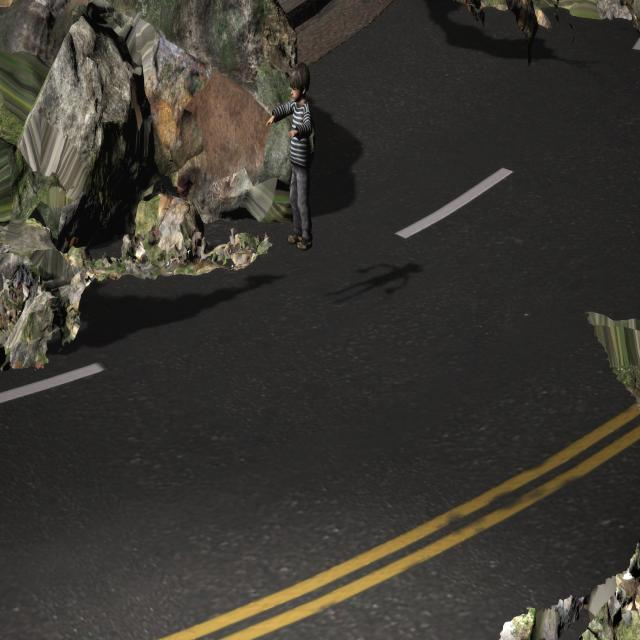Human: (262, 58, 319, 254)
